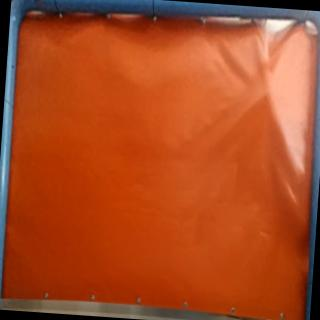Hit-hRxx: (258, 72, 278, 98)
